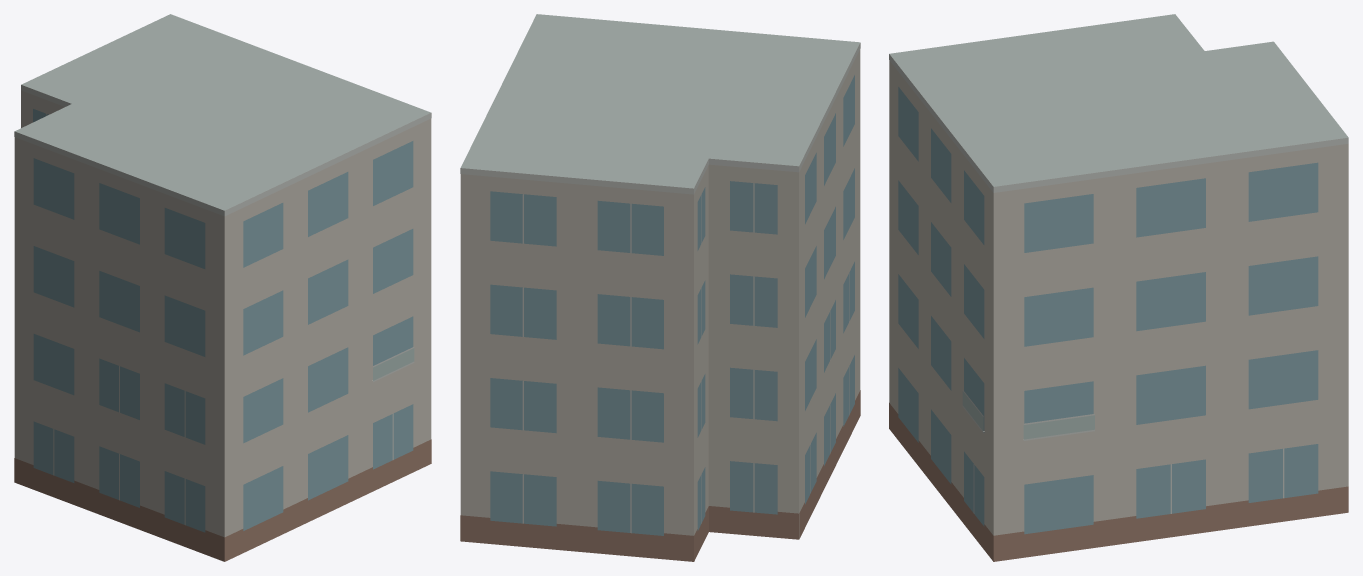
Rendered from survey-upis-32720557.glb.
The picture shows the model from 3 angles, left to right: view 1: azimuth 30°, elevation 25°; view 2: azimuth 150°, elevation 25°; view 3: azimuth 270°, elevation 25°; orthographic projection. The views are drawn at different scales.
Visible parts, largest first — view 1: survey-upis-32720557.tmp; view 2: survey-upis-32720557.tmp; view 3: survey-upis-32720557.tmp.
Part boxes in pixels (x1,y1,x2,y2): survey-upis-32720557.tmp: (14,14,431,561); survey-upis-32720557.tmp: (460,14,860,561); survey-upis-32720557.tmp: (889,14,1348,561).
Size of the model in its own units: 14.95 by 15.1 by 16.79.
